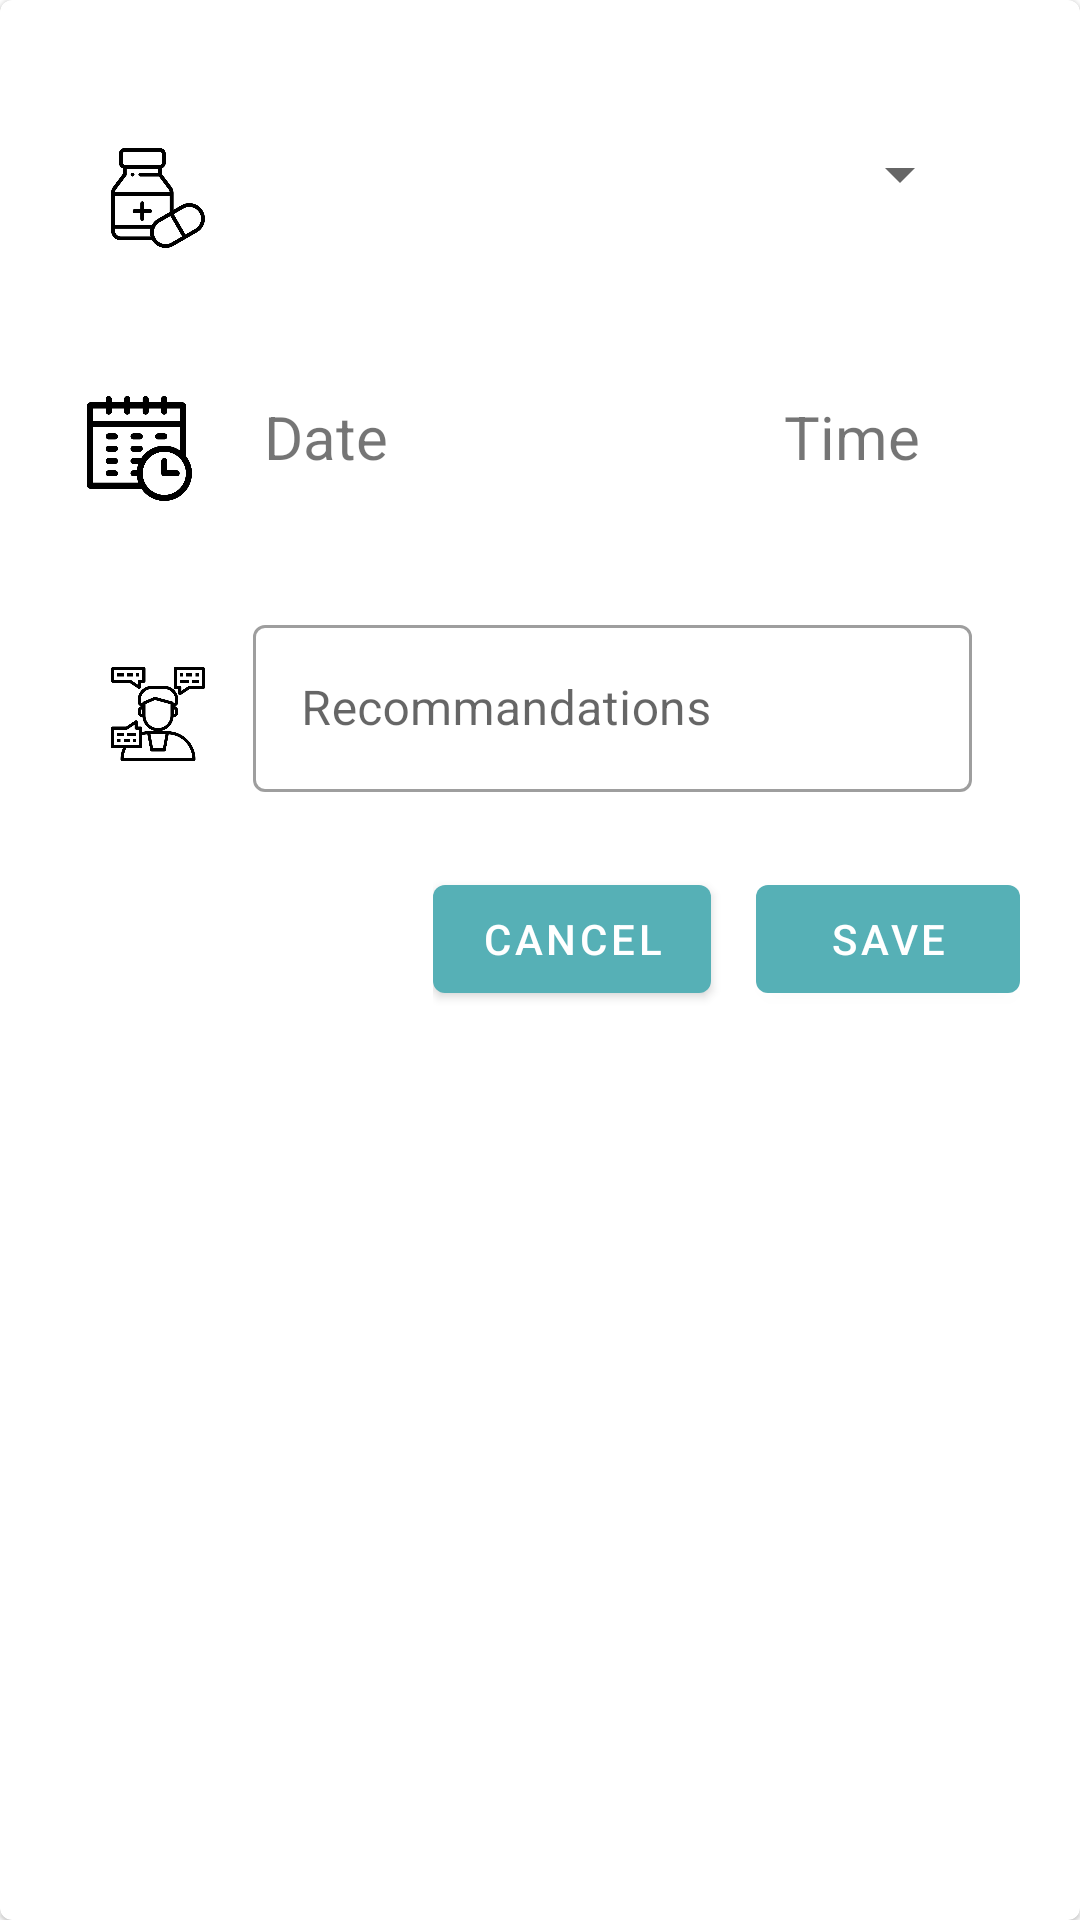

Screen size 1080 × 1920. Icon name, then its box in pixels as (x1, y1, x2, y2):
clock: (87, 396, 192, 501)
people: (111, 667, 205, 761)
